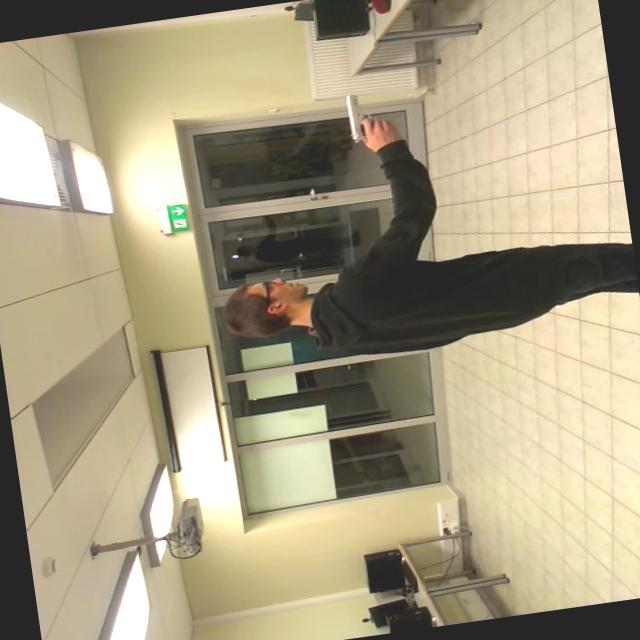handgun: (336, 87, 405, 149)
